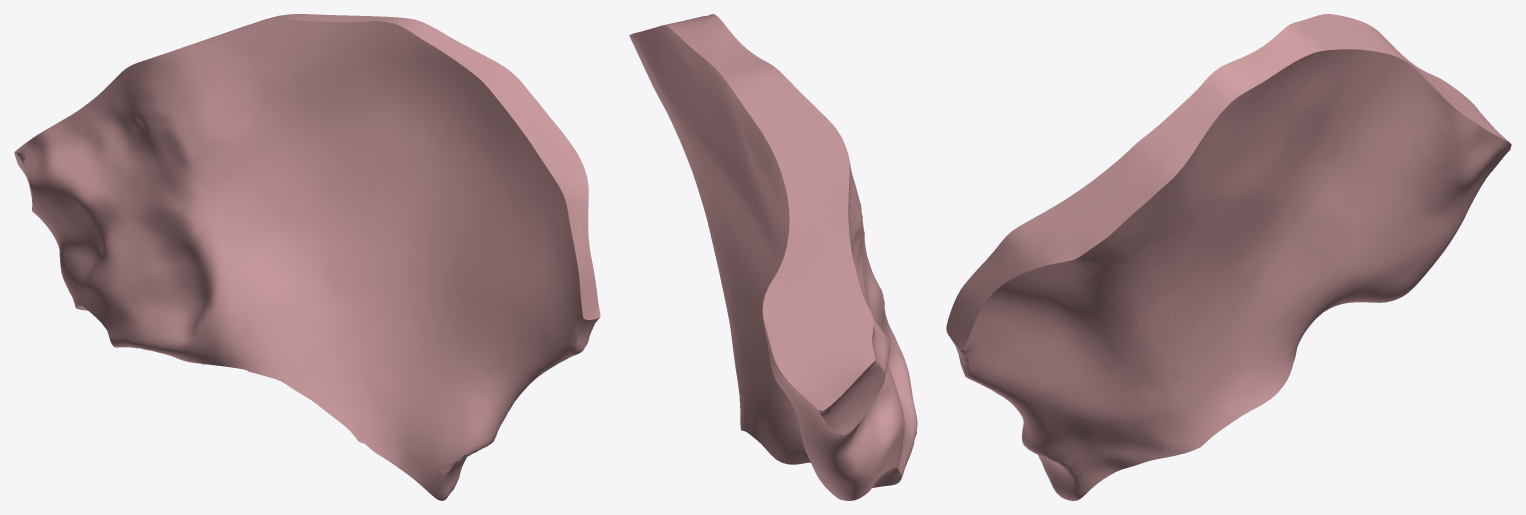
Rendered from fma63612-l_mm1619.glb.
3 views of the same model, side by side, from view 1: azimuth 30°, elevation 25°; view 2: azimuth 150°, elevation 25°; view 3: azimuth 270°, elevation 25° (orthographic). The views are drawn at different scales.
Visible parts, largest first — view 1: FMA63612-L_MM1619; view 2: FMA63612-L_MM1619; view 3: FMA63612-L_MM1619.
Part boxes in pixels (x1=…): FMA63612-L_MM1619: x1=14, y1=14, x2=600, y2=500; FMA63612-L_MM1619: x1=629, y1=14, x2=917, y2=500; FMA63612-L_MM1619: x1=946, y1=14, x2=1511, y2=500.
Bounding box in the file's own units: 0.103 × 0.1078 × 0.1258.
